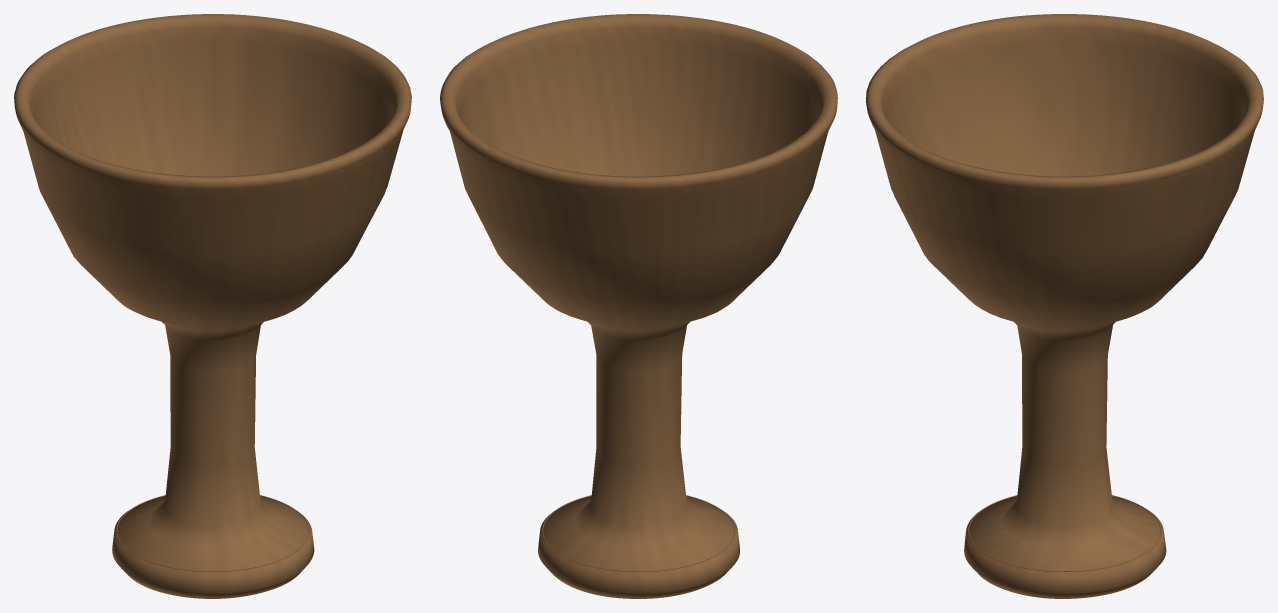
The model's file is tabernacle-basin.glb.
The picture shows the model from 3 angles, left to right: view 1: azimuth 30°, elevation 25°; view 2: azimuth 150°, elevation 25°; view 3: azimuth 270°, elevation 25°; orthographic projection.
Visible parts, largest first — view 1: tabernacle-basin-worked-bronze; view 2: tabernacle-basin-worked-bronze; view 3: tabernacle-basin-worked-bronze.
Part boxes in pixels (<box>): tabernacle-basin-worked-bronze: <box>14,14,411,598</box>; tabernacle-basin-worked-bronze: <box>440,14,837,598</box>; tabernacle-basin-worked-bronze: <box>866,14,1263,598</box>.
Size of the model in its own units: 0.9643 by 1.24 by 0.964.
